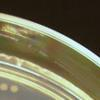white: (8, 83, 19, 95), (0, 81, 9, 94)
